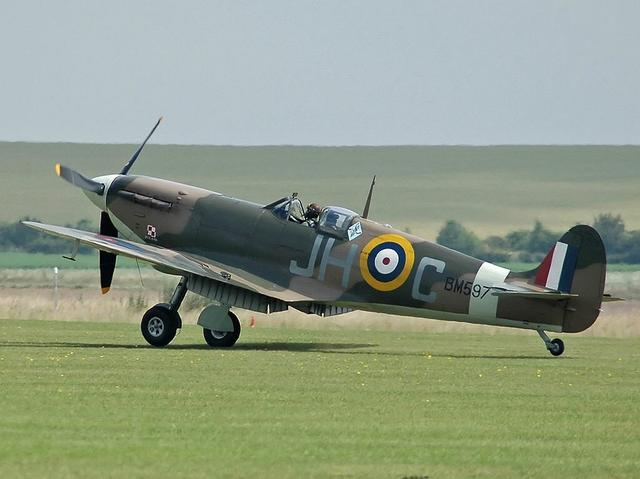airplane: (9, 113, 622, 366)
